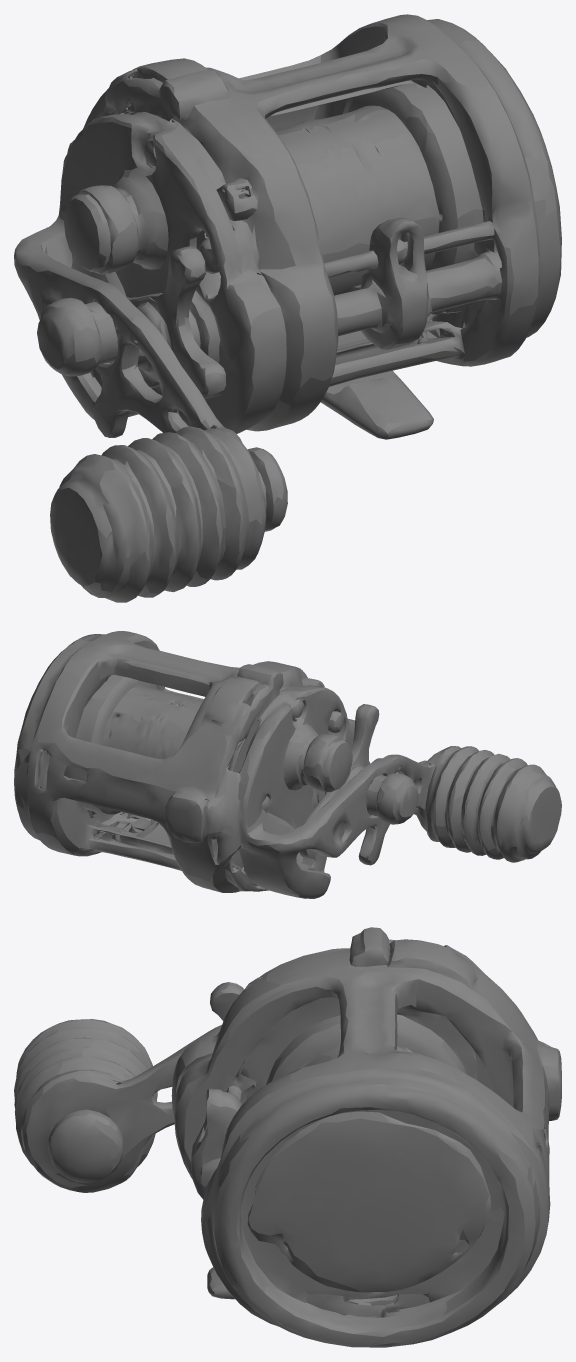
Rendered from completion_reel_2.glb.
3 views of the same model, one above another, from view 1: azimuth 30°, elevation 25°; view 2: azimuth 150°, elevation 25°; view 3: azimuth 270°, elevation 25° (orthographic). The views are drawn at different scales.
Visible parts, largest first — view 1: geometry_0; view 2: geometry_0; view 3: geometry_0.
Part boxes in pixels (x1,y1,x2,y2): geometry_0: (14,14,561,602); geometry_0: (14,631,561,898); geometry_0: (14,927,561,1347).
Size of the model in its own units: 1 by 0.59 by 0.9306.
1 material, 1 textured.
